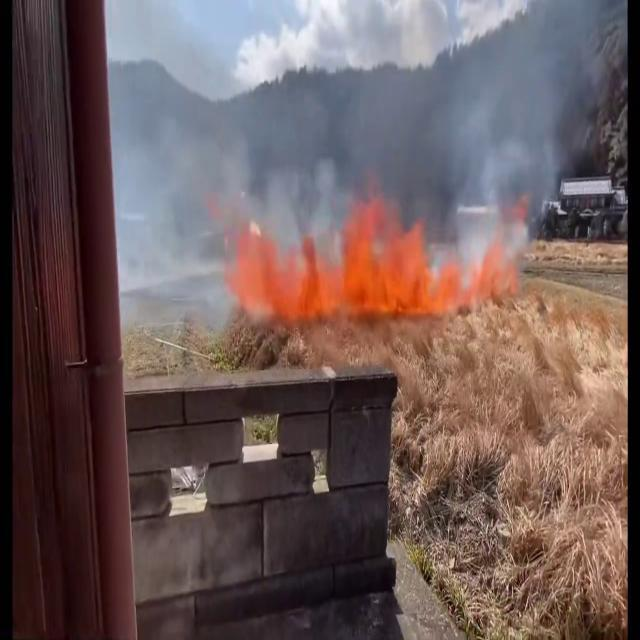Fire: (223, 199, 459, 324), (426, 240, 524, 330)
Smoke: (120, 1, 620, 257), (308, 0, 623, 265)
